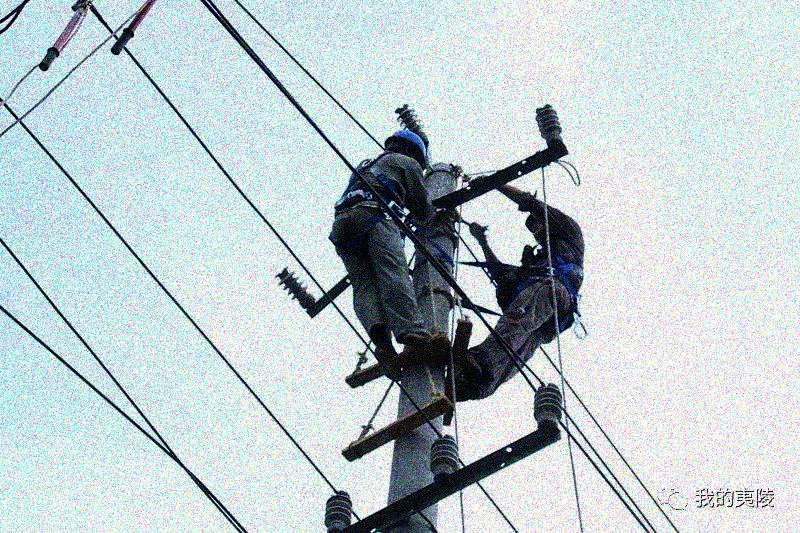helmet: (383, 127, 430, 172)
